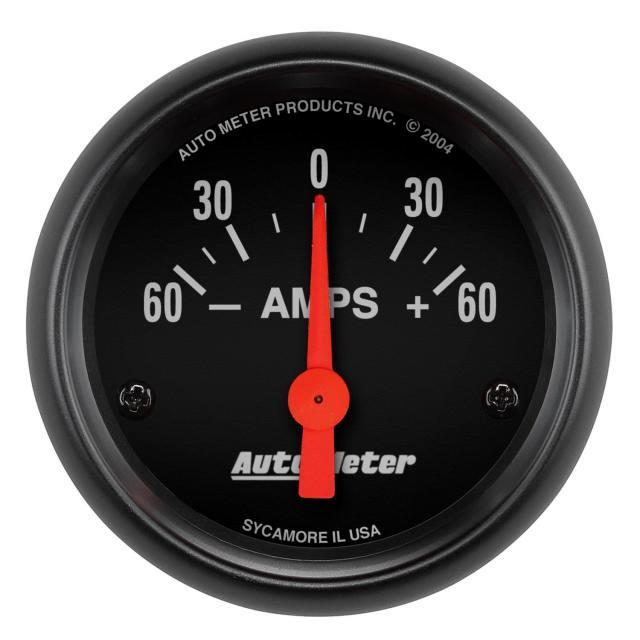Needle_Tip: (296, 185, 341, 262)
Needle_base: (260, 356, 370, 439)
max_value: (396, 279, 529, 340)
min_value: (118, 266, 253, 345)
